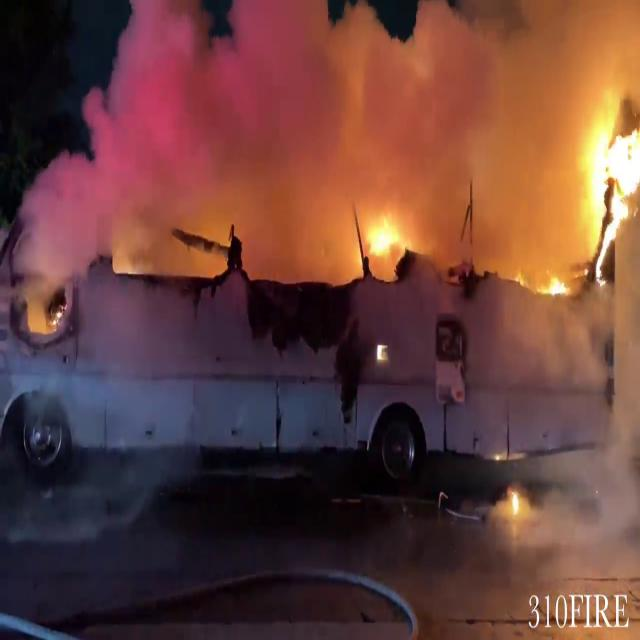Fire: (584, 97, 640, 235)
Smoke: (19, 0, 589, 265)
